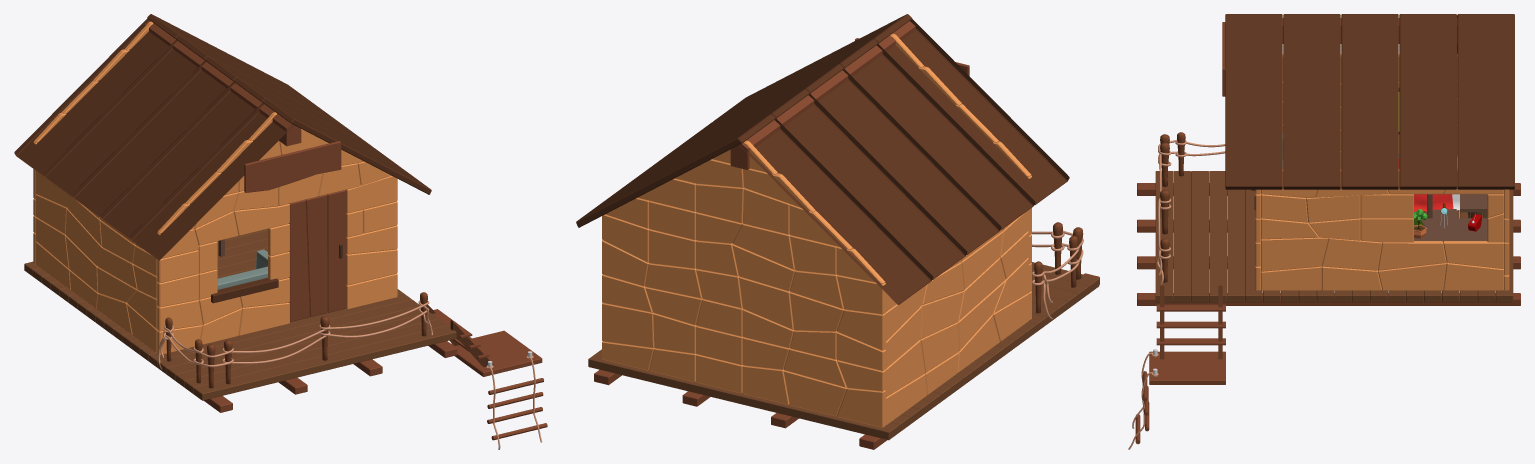
Rendered from treehouse_1.glb.
The picture shows the model from 3 angles, left to right: view 1: azimuth 30°, elevation 25°; view 2: azimuth 150°, elevation 25°; view 3: azimuth 270°, elevation 25°; orthographic projection. The views are drawn at different scales.
Parts seen in each view (by area): view 1: Cube.109, Cube.068, Cube.069, Cube.067, Cube.112, Cube.070, Cube, Cube.182, Cube.209, Cube.212, Cube.075, Cube.187 (+41 smaller); view 2: Cube.109, Cube.067, Cube.068, Cube.069, Cube.070, Cube.112, Cube.231, Cube.074, Cube.113, Cube.124, Cube.114, Cube.133 (+44 smaller); view 3: Cube.071, Cube.072, Cube.073, Cube.074, Cube.111, Cube.066, Cube.232, Cube.075, Cube.076, Cube.077, Cube.214, Cube.160 (+28 smaller).
Boxes of the visible parts, x1,y1,x2,y2 form: Cube.109: (36, 171, 157, 352); Cube.068: (72, 60, 226, 218); Cube.069: (43, 39, 197, 197); Cube.067: (101, 82, 255, 239); Cube.112: (129, 103, 293, 260); Cube.070: (14, 18, 168, 176); Cube: (193, 325, 456, 400); Cube.182: (244, 141, 341, 192); Cube.209: (305, 194, 327, 316); Cube.212: (327, 190, 346, 312); Cube.075: (184, 319, 447, 393); Cube.187: (289, 200, 309, 321); Cube.109: (885, 210, 1028, 425); Cube.067: (852, 44, 1035, 230); Cube.068: (818, 69, 1001, 254); Cube.069: (784, 93, 967, 279); Cube.070: (739, 116, 933, 304); Cube.112: (887, 19, 1069, 205); Cube.231: (588, 351, 899, 440); Cube.074: (576, 114, 775, 227); Cube.113: (730, 21, 915, 169); Cube.124: (602, 303, 654, 348); Cube.114: (783, 370, 847, 416); Cube.133: (739, 277, 793, 329); Cube.071: (1283, 14, 1340, 189); Cube.072: (1341, 14, 1398, 189); Cube.073: (1399, 14, 1456, 189); Cube.074: (1457, 14, 1514, 189); Cube.111: (1225, 14, 1282, 189); Cube.066: (1137, 183, 1520, 305); Cube.232: (1149, 351, 1225, 384); Cube.075: (1173, 171, 1191, 302); Cube.076: (1191, 171, 1208, 302); Cube.077: (1209, 171, 1226, 302); Cube.214: (1227, 189, 1244, 302); Cube.160: (1261, 237, 1328, 271).
Bounding box in the file's own units: 14.51 × 13.45 × 14.16.
